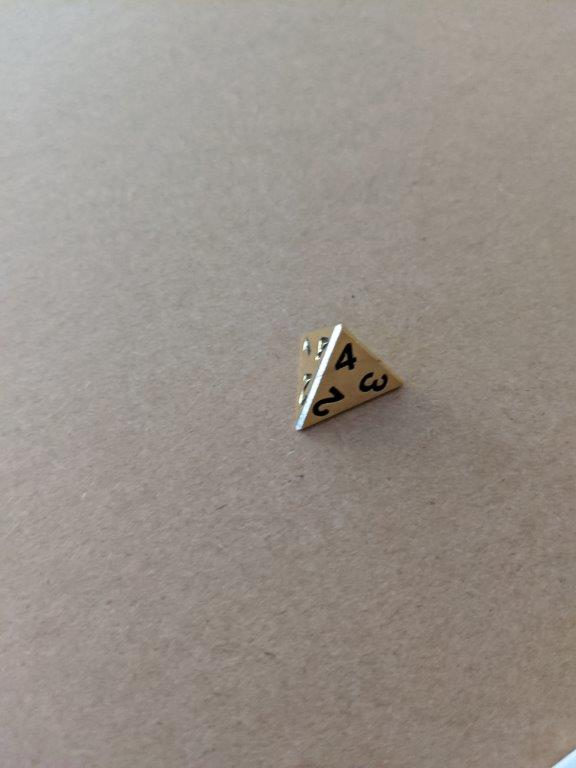d4-4: (292, 322, 405, 436)
